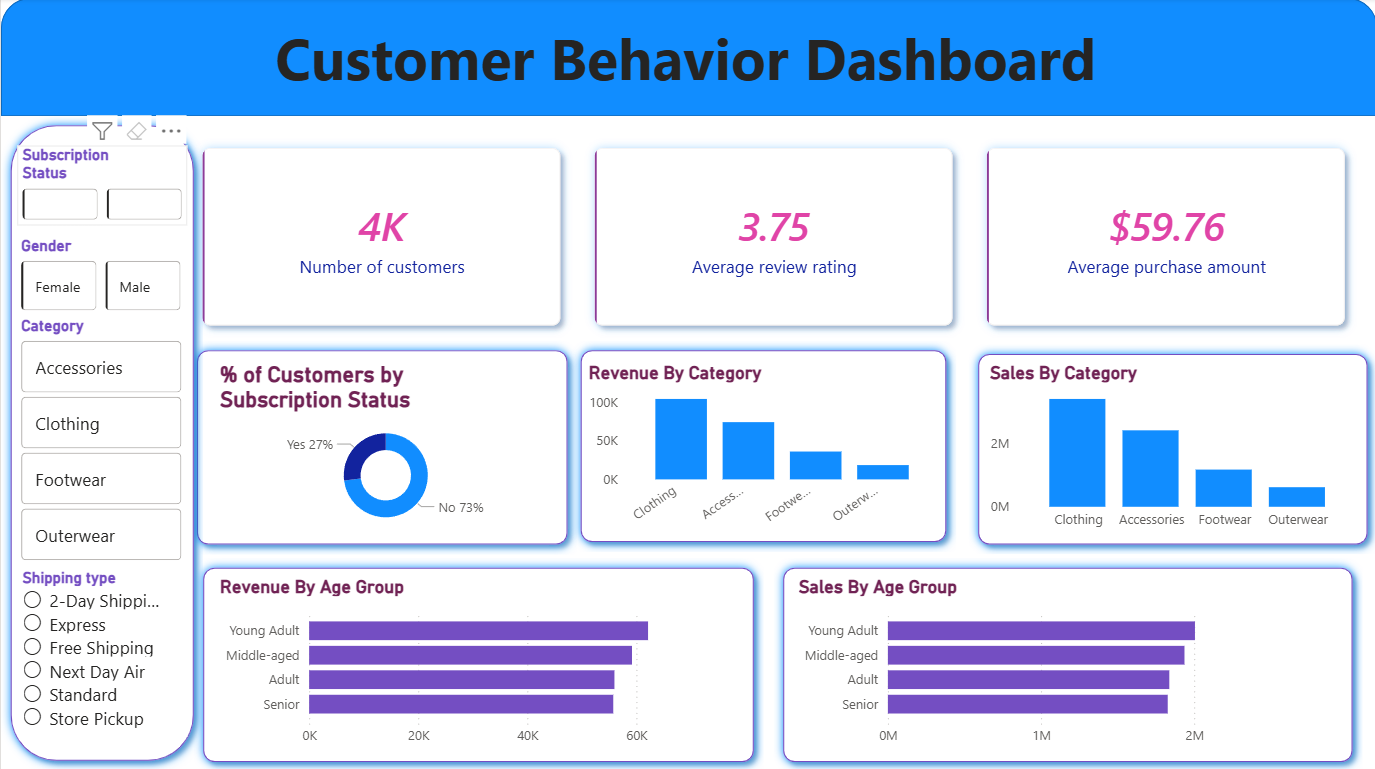

The dashboard page shown, as its layout file describes it:
{"tool":"powerbi","page":{"name":"Page 1","canvas":[1280,720],"ordinal":0},"visuals":[{"type":"cardVisual","fields":{"Data":["project customer.Number of customers","project customer.Average review rating","project customer.Average purchase amount"]},"box":[157,109.3,1123.3,225.6],"z":0},{"type":"shape","box":[0,0,1280.3,109.8],"z":1000},{"type":"textbox","box":[208.6,13.7,857.6,96.1],"z":2000},{"type":"shape","box":[173.3,318.6,362.8,198.8],"z":3000},{"type":"donutChart","title":"% of Customers by Subscription Status","fields":{"Category":["project customer.subscription_status"],"Y":["CountNonNull(project customer.customer_id)"]},"box":[198.8,338.4,318.6,160.5],"z":4000},{"type":"shape","box":[530.2,318.6,358.1,196.5],"z":5000},{"type":"shape","box":[900,322.1,380.2,195.3],"z":6000},{"type":"clusteredColumnChart","title":"Revenue By Category","fields":{"Category":["project customer.category"],"Y":["Sum(project customer.purchase_amount)"]},"box":[541.9,338.4,334.9,161.6],"z":7000},{"type":"clusteredColumnChart","title":"Sales By Category","fields":{"Category":["project customer.category"],"Y":["Sum(project customer.customer_id)"]},"box":[915.1,338.4,351.2,165.1],"z":8000},{"type":"shape","box":[0,109.3,188.4,609.3],"z":9000},{"type":"advancedSlicerVisual","title":"Subscription Status","fields":{"Values":["project customer.subscription_status"]},"box":[15.1,137.2,158.1,74.4],"z":10000},{"type":"advancedSlicerVisual","title":"Gender","fields":{"Values":["project customer.gender"]},"box":[14,222.1,159.3,74.4],"z":11000},{"type":"advancedSlicerVisual","title":"Category","fields":{"Values":["project customer.category"]},"box":[14,296.5,159.3,233.7],"z":12000},{"type":"listSlicer","title":"Shipping type","fields":{"Values":["project customer.shipping_type"]},"box":[15.1,530.2,158.1,157],"z":13000},{"type":"shape","box":[179.1,520.9,530.2,198.8],"z":13002},{"type":"clusteredBarChart","title":"Revenue By Age Group","fields":{"Y":["Sum(project customer.purchase_amount)"],"Category":["project customer.age_group"]},"box":[198.8,537.2,458.1,167.4],"z":13003},{"type":"shape","box":[718.6,520.9,547.7,198.8],"z":13004},{"type":"clusteredBarChart","title":"Sales By Age Group","fields":{"Y":["Sum(project customer.customer_id)"],"Category":["project customer.age_group"]},"box":[737.2,537.2,458.1,167.4],"z":13005}]}

Visuals, with their boxes in screenshot pixels (x1, y1, x2, y2), scaled from the page's 1280x720 canvas onto the 1375x769 screenshot:
cardVisual - project customer.Number of customers x project customer.Average review rating: [left=169, top=117, right=1374, bottom=358]
shape: [left=0, top=0, right=1374, bottom=117]
textbox: [left=224, top=15, right=1145, bottom=117]
shape: [left=186, top=340, right=576, bottom=553]
"% of Customers by Subscription Status" donutChart: [left=214, top=361, right=556, bottom=533]
shape: [left=570, top=340, right=954, bottom=550]
shape: [left=967, top=344, right=1374, bottom=553]
"Revenue By Category" clusteredColumnChart: [left=582, top=361, right=942, bottom=534]
"Sales By Category" clusteredColumnChart: [left=983, top=361, right=1360, bottom=538]
shape: [left=0, top=117, right=202, bottom=768]
"Subscription Status" advancedSlicerVisual: [left=16, top=147, right=186, bottom=226]
"Gender" advancedSlicerVisual: [left=15, top=237, right=186, bottom=317]
"Category" advancedSlicerVisual: [left=15, top=317, right=186, bottom=566]
"Shipping type" listSlicer: [left=16, top=566, right=186, bottom=734]
shape: [left=192, top=556, right=762, bottom=768]
"Revenue By Age Group" clusteredBarChart: [left=214, top=574, right=706, bottom=753]
shape: [left=772, top=556, right=1360, bottom=768]
"Sales By Age Group" clusteredBarChart: [left=792, top=574, right=1284, bottom=753]
